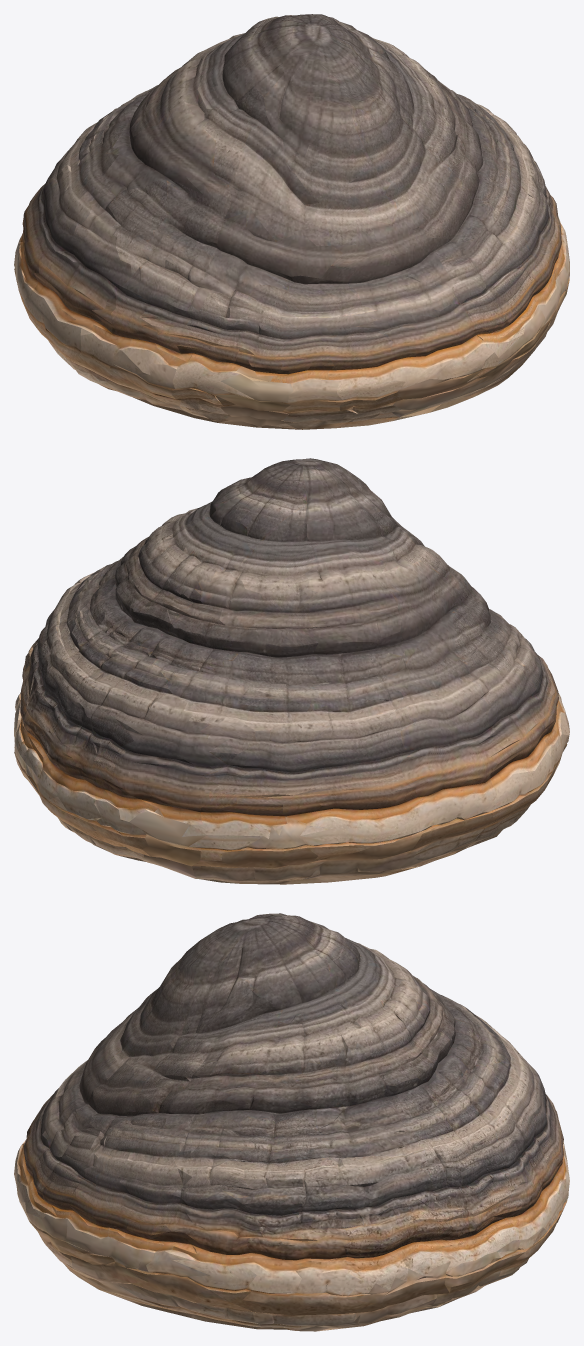
Rendered from kav.glb.
3 views of the same model, one above another, from view 1: azimuth 30°, elevation 25°; view 2: azimuth 150°, elevation 25°; view 3: azimuth 270°, elevation 25° (orthographic).
Parts seen in each view (by area): view 1: output_unwrapped; view 2: output_unwrapped; view 3: output_unwrapped.
Boxes of the visible parts, <box> form: output_unwrapped: <box>14,14,569,429</box>; output_unwrapped: <box>14,458,569,884</box>; output_unwrapped: <box>14,913,569,1331</box>.
Size of the model in its own units: 1.9 by 1.16 by 1.9.
1 material, 1 textured.
